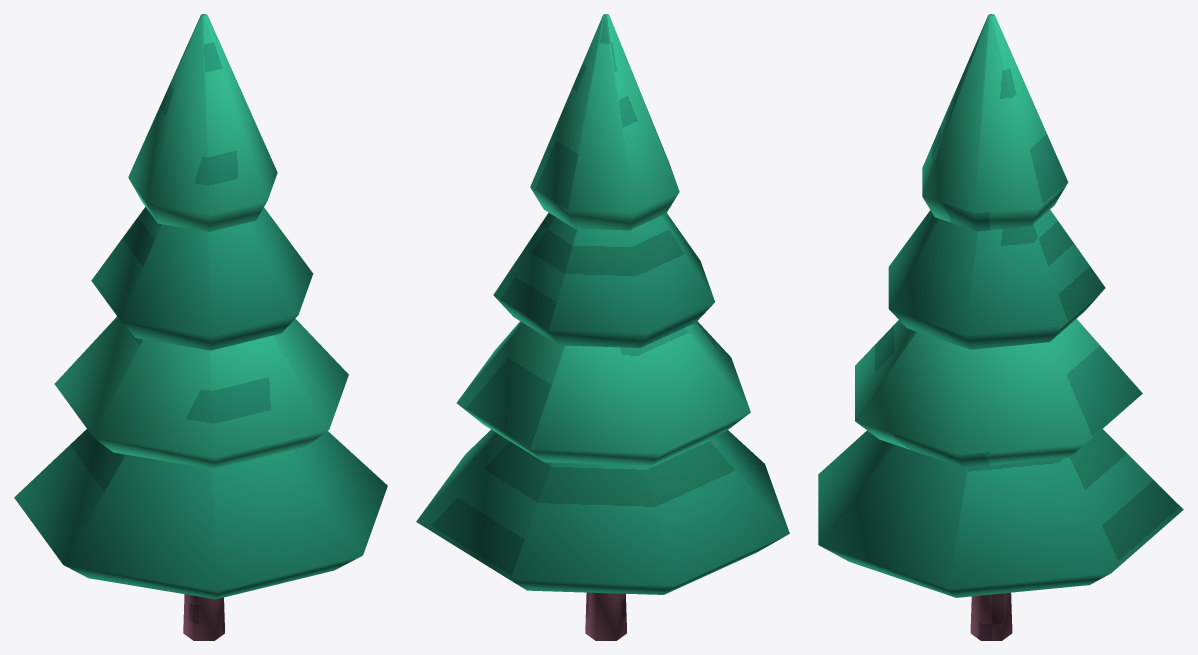
The model's file is Pine Tree.fbx.
3 views of the same model, side by side, from view 1: azimuth 30°, elevation 25°; view 2: azimuth 150°, elevation 25°; view 3: azimuth 270°, elevation 25° (orthographic).
Parts seen in each view (by area): view 1: Pine Tree tier 0, Pine Tree tier 1, Pine Tree tier 2, Pine Tree tier 3, Pine Tree trunk; view 2: Pine Tree tier 0, Pine Tree tier 1, Pine Tree tier 2, Pine Tree tier 3, Pine Tree trunk; view 3: Pine Tree tier 0, Pine Tree tier 1, Pine Tree tier 2, Pine Tree tier 3, Pine Tree trunk.
Part boxes in pixels (x1,y1,x2,y2): Pine Tree tier 0: [14, 429, 387, 599]; Pine Tree tier 1: [54, 316, 348, 468]; Pine Tree tier 2: [91, 207, 313, 350]; Pine Tree tier 3: [128, 14, 277, 231]; Pine Tree trunk: [183, 594, 224, 640]; Pine Tree tier 0: [416, 429, 789, 594]; Pine Tree tier 1: [456, 321, 750, 465]; Pine Tree tier 2: [493, 212, 714, 347]; Pine Tree tier 3: [530, 14, 679, 230]; Pine Tree trunk: [585, 592, 626, 640]; Pine Tree tier 0: [818, 429, 1183, 597]; Pine Tree tier 1: [855, 319, 1142, 467]; Pine Tree tier 2: [888, 210, 1105, 349]; Pine Tree tier 3: [922, 14, 1068, 231]; Pine Tree trunk: [970, 592, 1012, 640].
Bounding box in the file's own units: 3.22 × 5.85 × 3.14.
3 materials, 3 textured.
